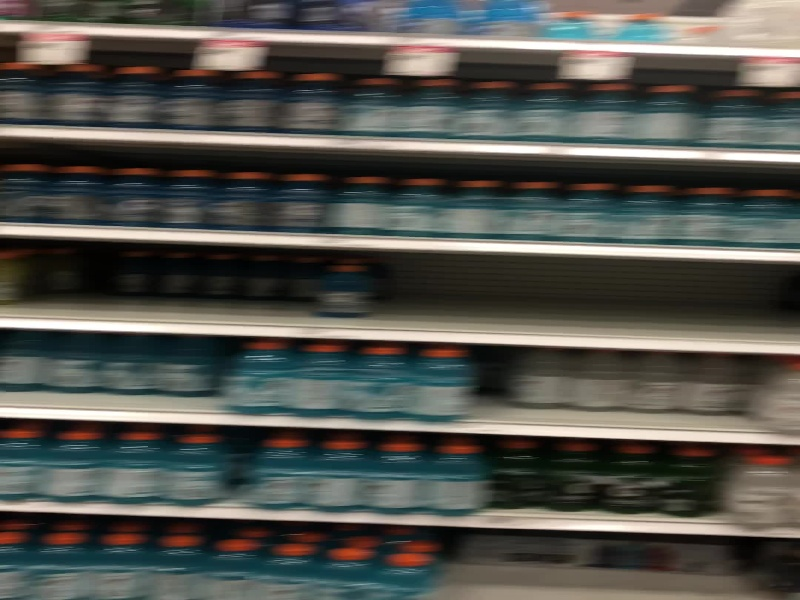empty_shelf_space: (390, 253, 799, 345)
